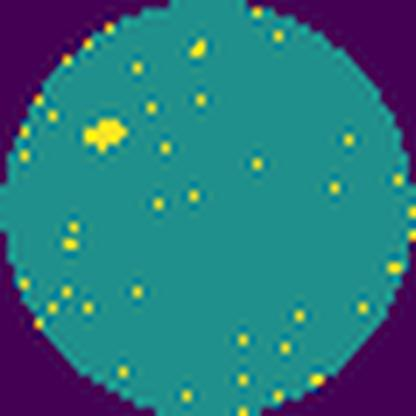Loc: (78, 117, 131, 151)
